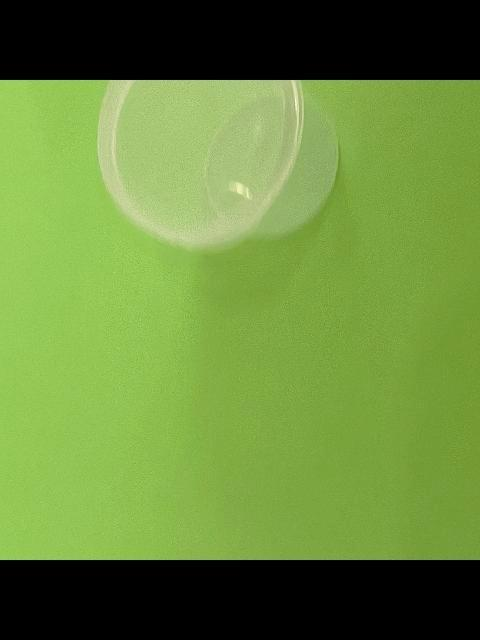plasticcontainer: (90, 80, 346, 254)
